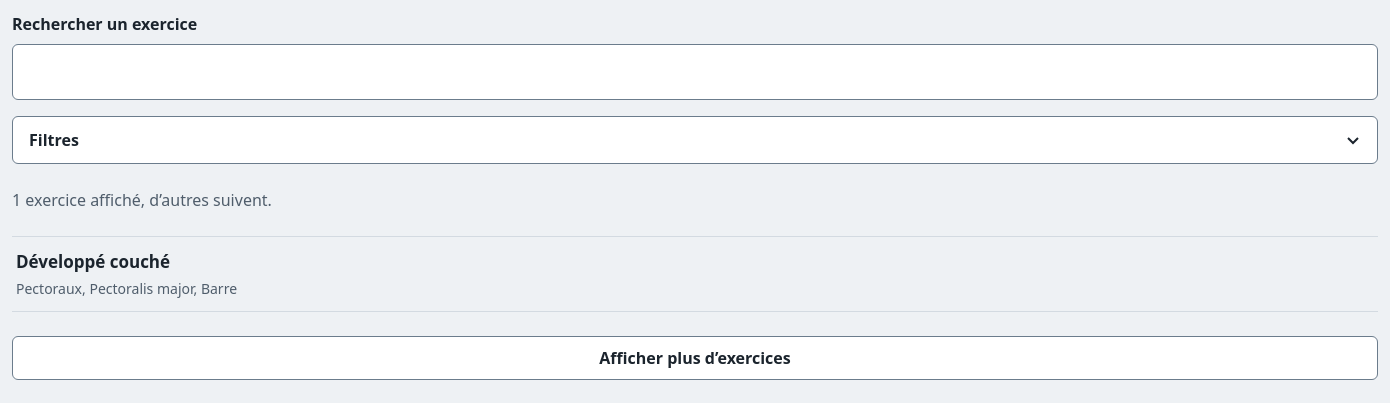
Test: ExerciseLibrary › affiche la page suivante à la demande
Expected: the text "1 exercice affiché, d’autres suivent." is shown, [12,189,272,211]
Click the button "Afficher plus d’exercices" at (695, 358), box [12,336,1378,380]
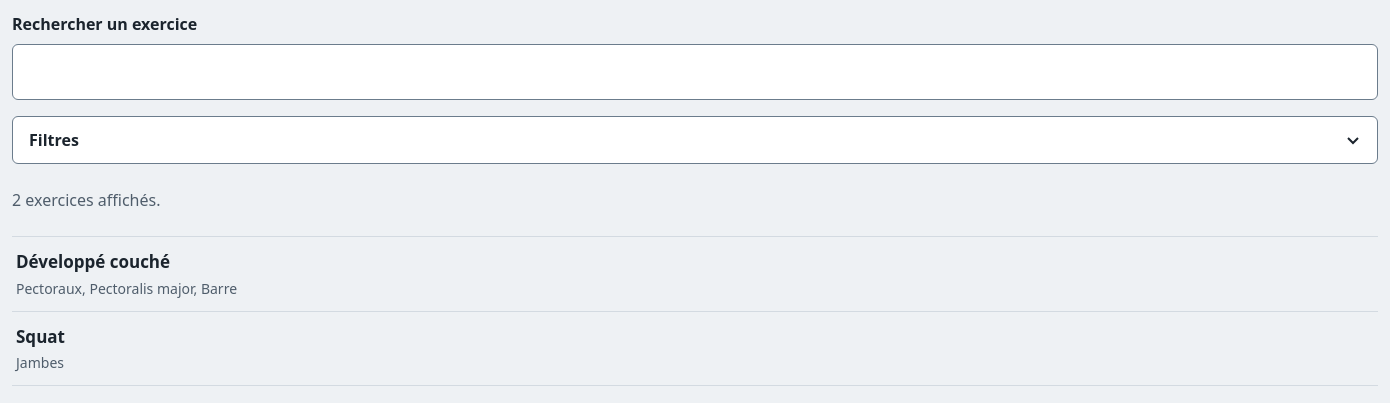
Now the text "Squat" is shown, box [16,324,65,348]
Now the message reads "2 exercices affichés.", box [12,189,160,211]
Now the button "Afficher plus d’exercices" is gone
